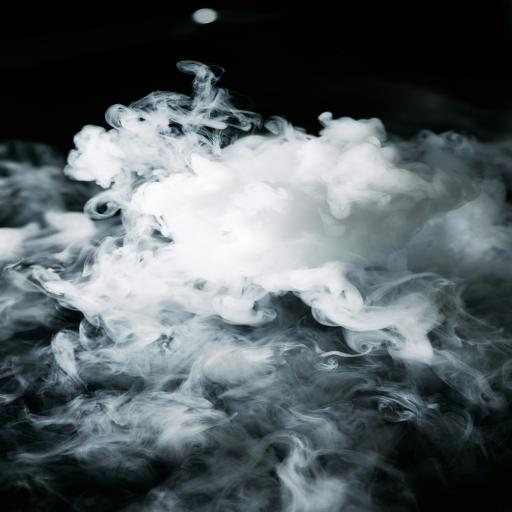smoke: (15, 75, 512, 360)
